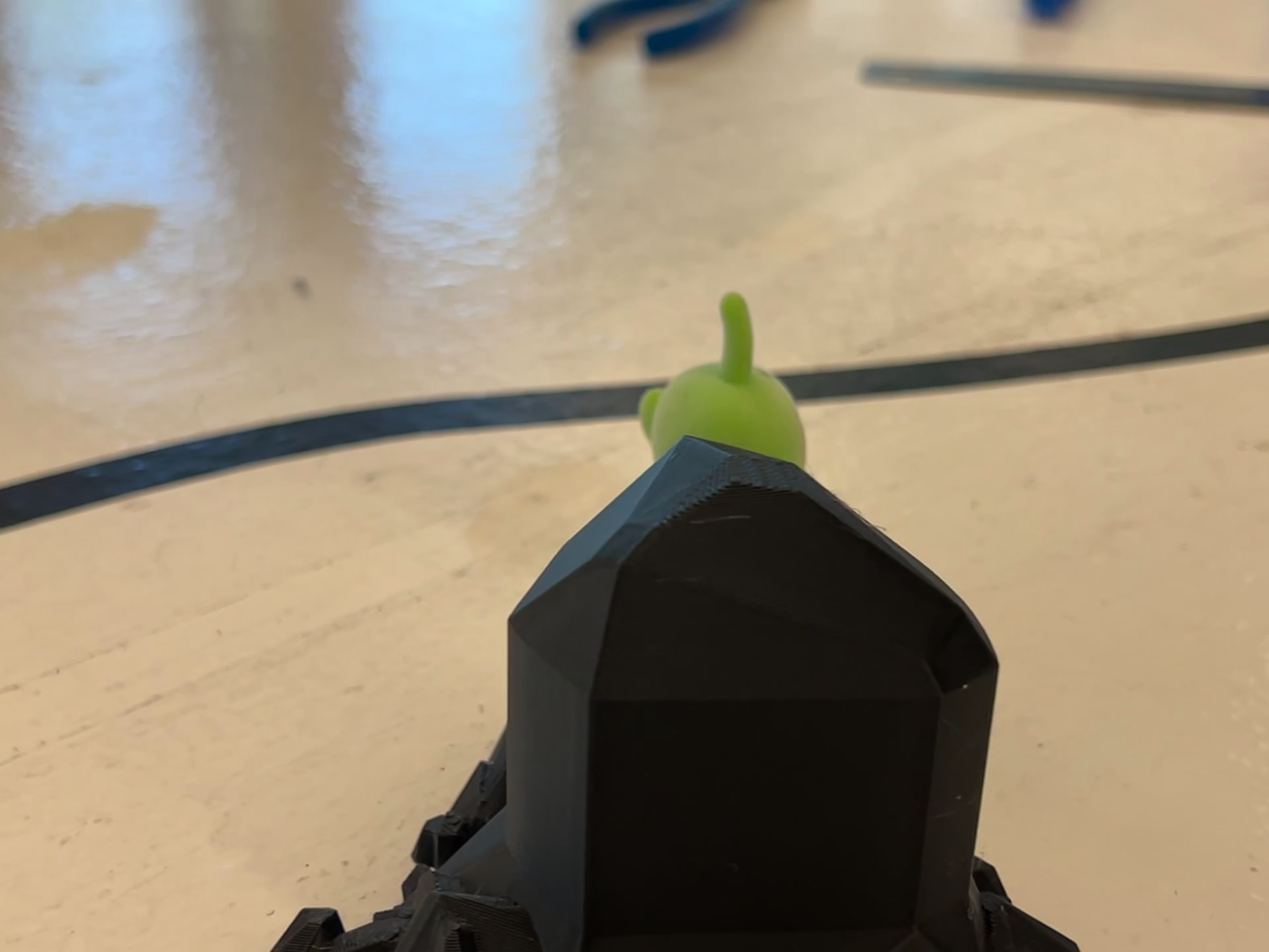teletubby: (640, 294, 804, 467)
